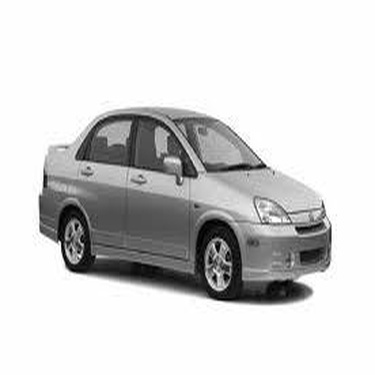car: (35, 100, 337, 309)
